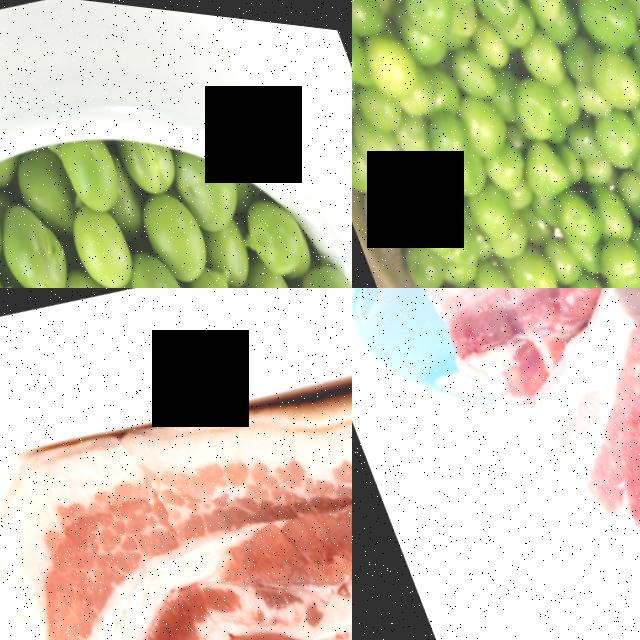peas: (352, 0, 640, 288), (0, 93, 352, 288)
pork belly: (0, 288, 352, 640), (488, 288, 640, 579), (391, 288, 640, 435)
